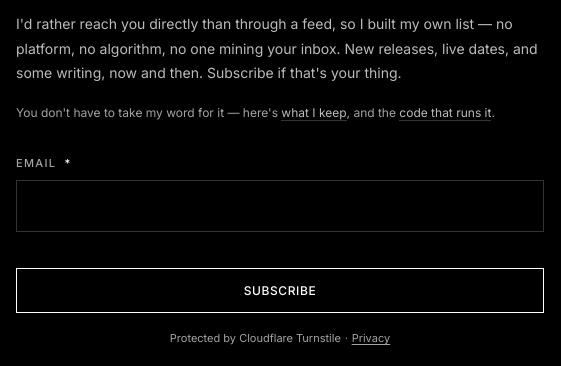
Test: NewsletterView › shows a submit error when the request fails
Type "reader@example.com" into the field with id "newsletter-email" at (280, 206), box [16, 180, 544, 232]
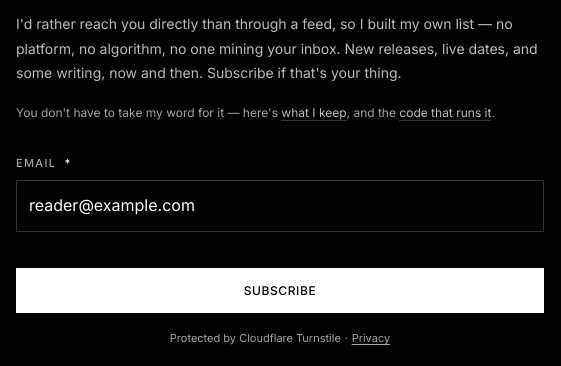
Submit the form, box [16, 154, 544, 349]
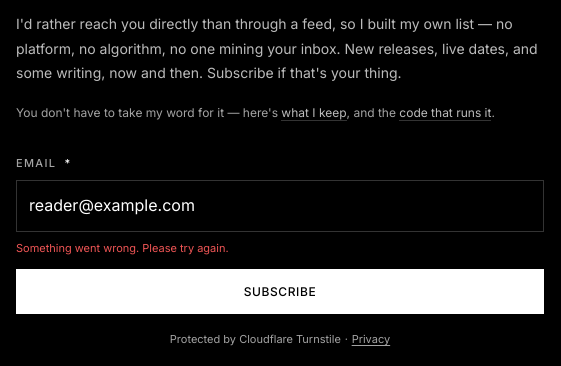
Now the message with id "newsletter-email-error" reads "Something went wrong. Please try again.", box [16, 241, 229, 255]
